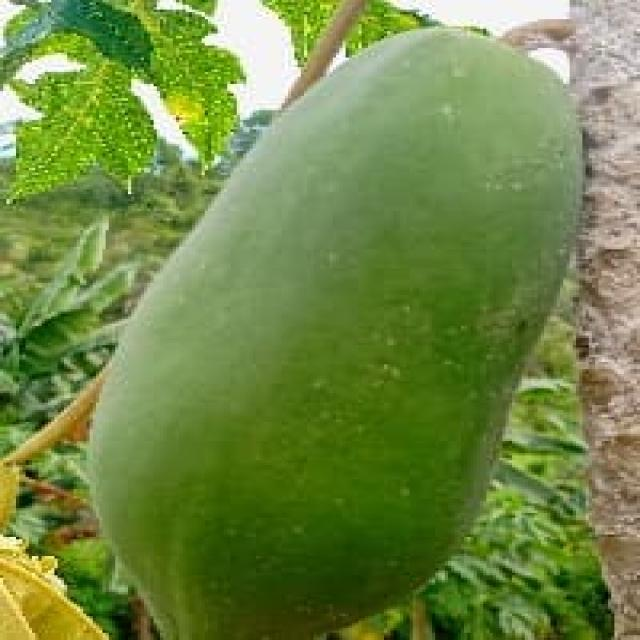Pepaya: (77, 24, 586, 638)
